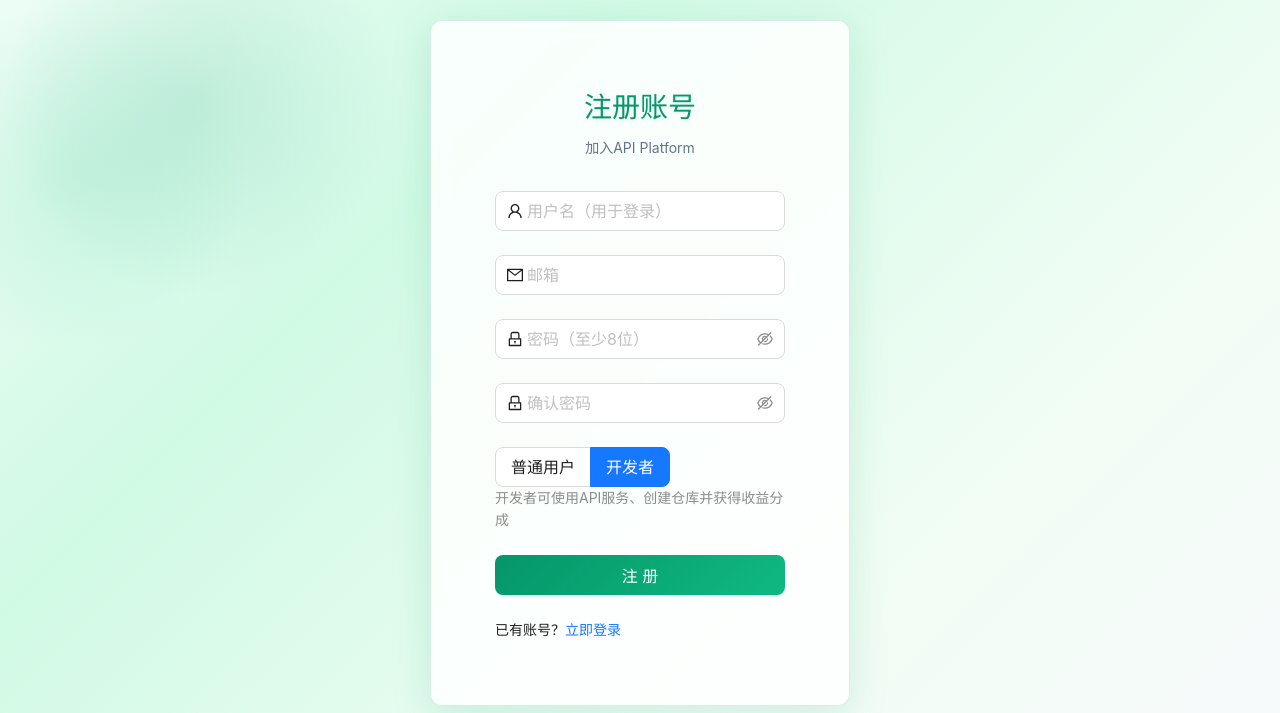
Test case: 注册页渲染（TC-FE-REG-001） › TC-FE-REG-001: 渲染关键字段；账号类型只有 user/developer 且随选择切换提示
The width and height of the screenshot is (1280, 713).
Expected: the heading "注册账号" is shown, [584, 90, 696, 124]
Expected: the text "加入API Platform" is shown, [585, 139, 695, 156]
// 切到普通用户 → 提示文案随之切换（getUserTypeHint 的分支）
Click the radio button labelled "普通用户": {"x": 543, "y": 467} [495, 447, 591, 487]
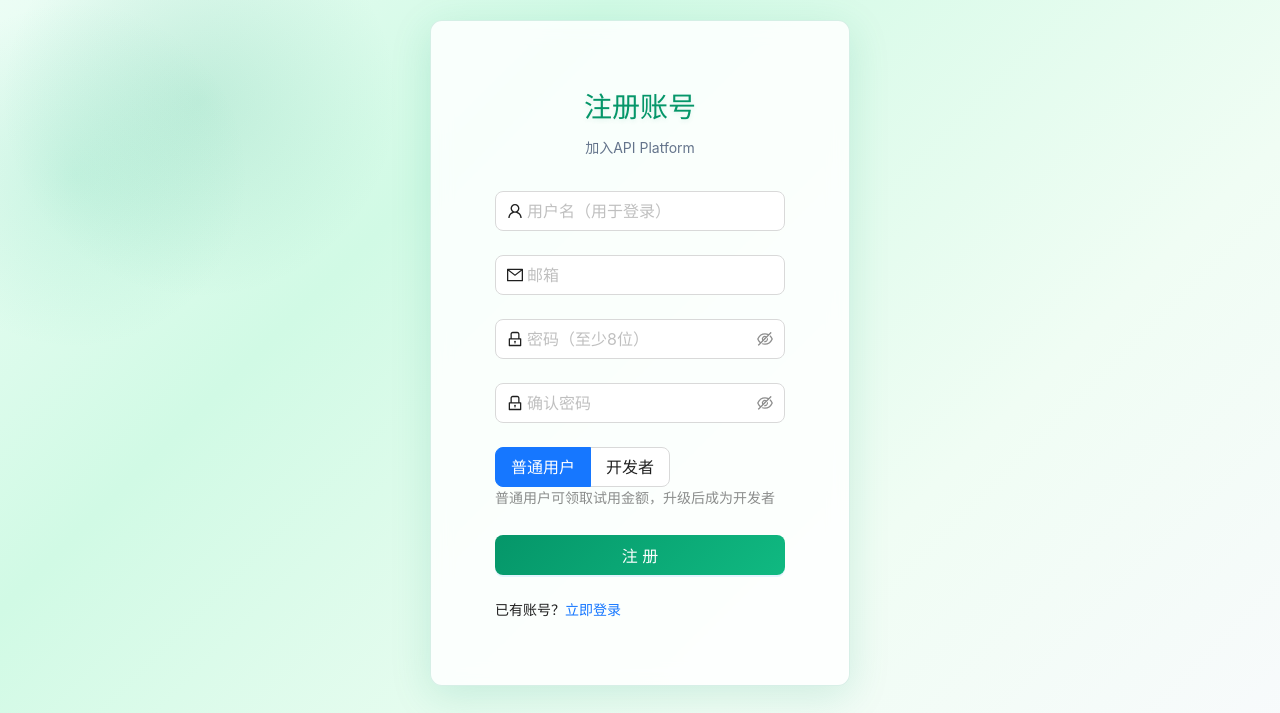
Now the text "普通用户可领取试用金额，升级后成为开发者" is shown, box [495, 487, 785, 511]
